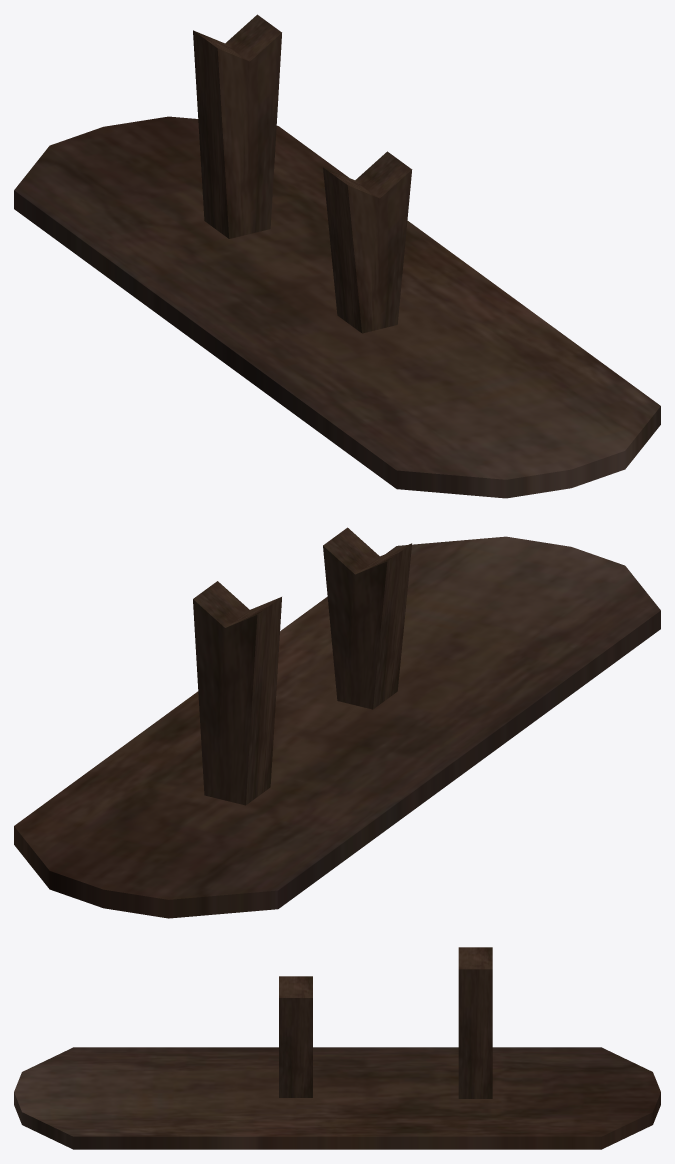
The model's file is shop_weapons_rack_table.fbx.
3 renders of one model, top to bottom at view 1: azimuth 30°, elevation 25°; view 2: azimuth 150°, elevation 25°; view 3: azimuth 270°, elevation 25°, orthographic. The views are drawn at different scales.
Parts seen in each view (by area): view 1: base, post_01, post_02; view 2: base, post_01, post_02; view 3: base, post_01, post_02.
Part boxes in pixels (x1,y1,x2,y2): base: (14,116,660,498); post_01: (193,14,281,238); post_02: (323,151,412,333); base: (14,536,660,918); post_01: (193,581,281,805); post_02: (323,527,411,709); base: (14,1047,660,1149); post_01: (458,947,492,1098); post_02: (279,976,312,1097).
Size of the model in its own units: 81.97 by 62.88 by 251.
1 material, 1 textured.
